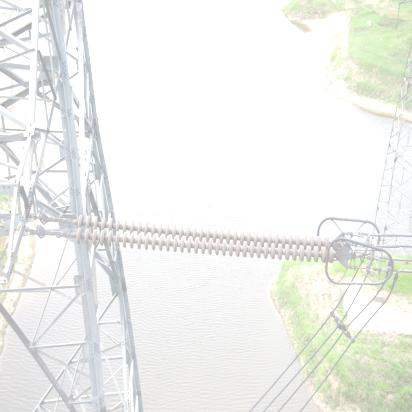insulator: (60, 214, 346, 264)
